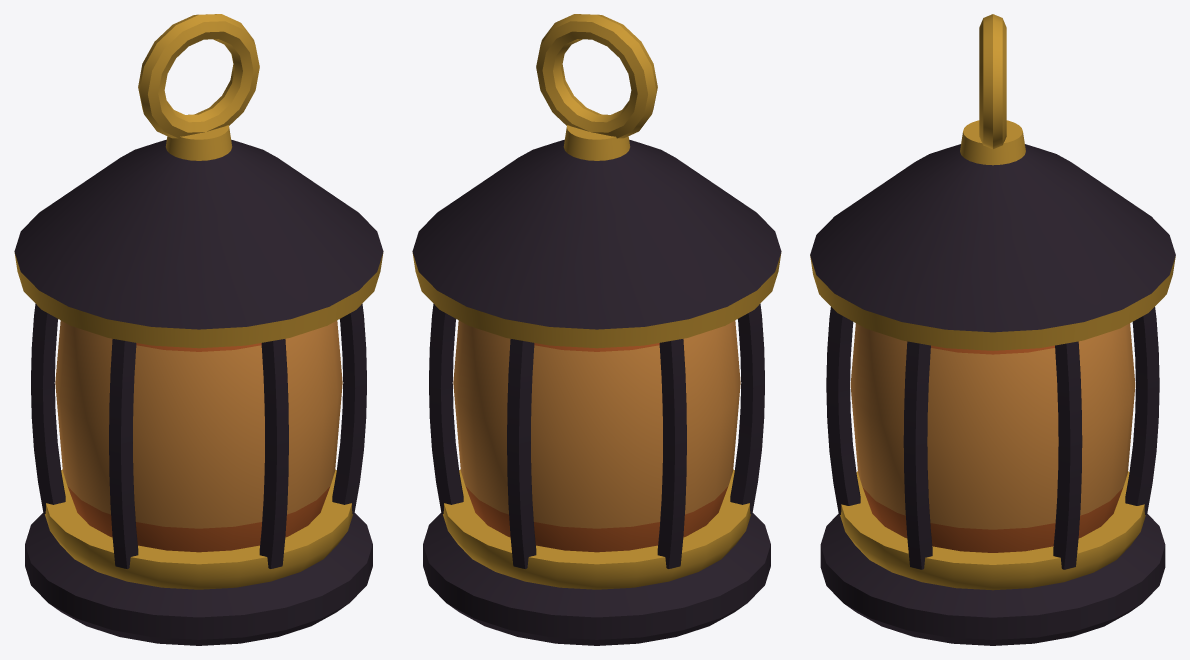
Rendered from Lantern_22.glb.
3 views of the same model, side by side, from view 1: azimuth 30°, elevation 25°; view 2: azimuth 150°, elevation 25°; view 3: azimuth 270°, elevation 25° (orthographic).
Visible parts, largest first — view 1: Lantern_22; view 2: Lantern_22; view 3: Lantern_22.
Boxes of the visible parts, bbox=[...] form: Lantern_22: bbox=[14, 14, 383, 645]; Lantern_22: bbox=[412, 14, 781, 645]; Lantern_22: bbox=[810, 14, 1175, 645].
Size of the model in its own units: 1.34 by 2.26 by 1.34.
